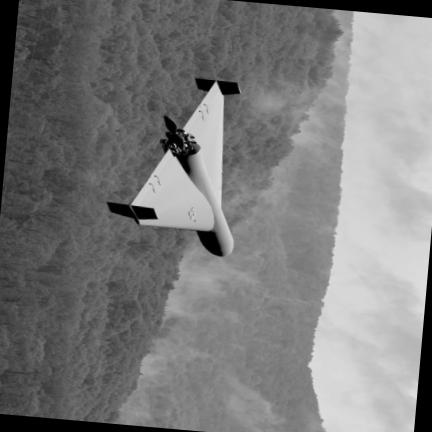Shahed: (107, 79, 239, 257)
